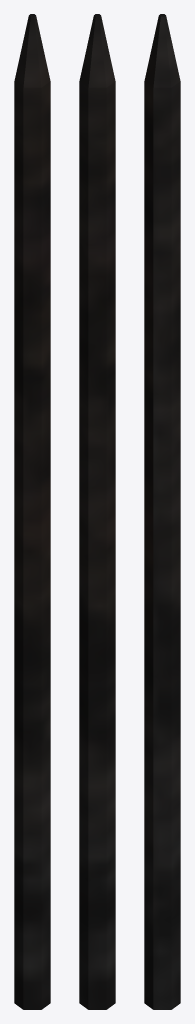
The model's file is rebar_long_pointy.obj.
3 views of the same model, side by side, from view 1: azimuth 90°, elevation 25°; view 2: azimuth 150°, elevation 25°; view 3: azimuth 270°, elevation 25° (orthographic).
Parts seen in each view (by area): view 1: rebar_long_pointy__EXPORT_TEMP; view 2: rebar_long_pointy__EXPORT_TEMP; view 3: rebar_long_pointy__EXPORT_TEMP.
Part boxes in pixels (left/top/right/bottom): rebar_long_pointy__EXPORT_TEMP: left=14, top=14, right=50, bottom=1009; rebar_long_pointy__EXPORT_TEMP: left=79, top=14, right=115, bottom=1009; rebar_long_pointy__EXPORT_TEMP: left=144, top=14, right=180, bottom=1009.
Bounding box in the file's own units: 0.043 × 1.5 × 0.0497.
